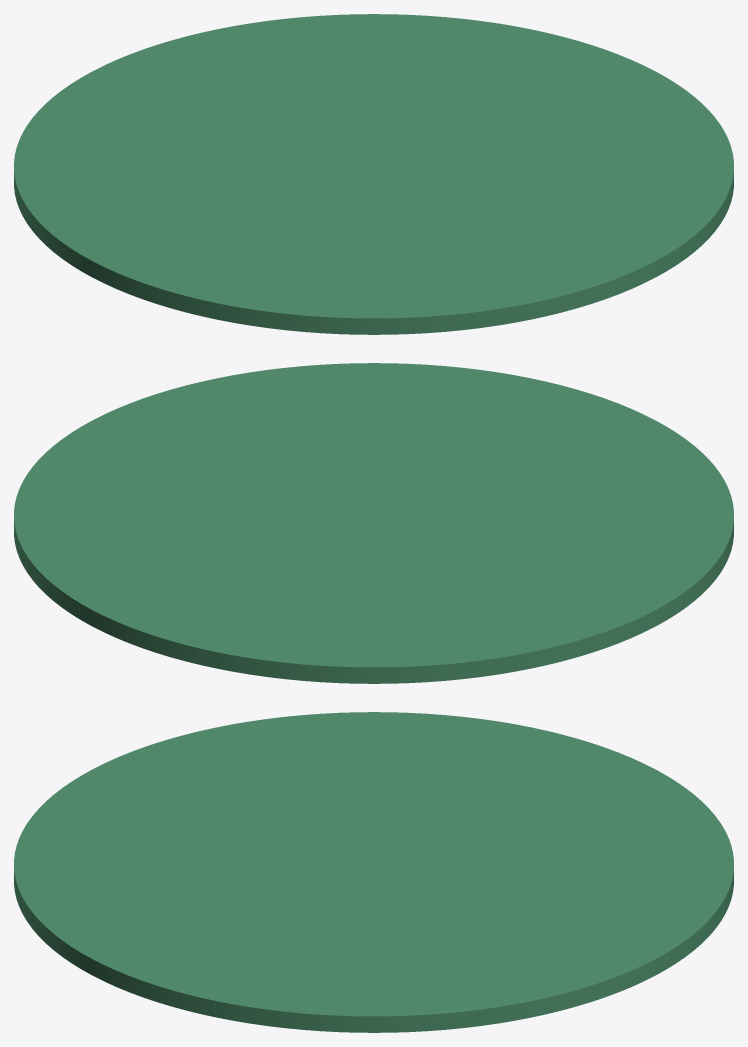
Rendered from esp2025_p23_panel_pcb.glb.
3 renders of one model, top to bottom at view 1: azimuth 30°, elevation 25°; view 2: azimuth 150°, elevation 25°; view 3: azimuth 270°, elevation 25°, orthographic.
Visible parts, largest first — view 1: panel circuit board; view 2: panel circuit board; view 3: panel circuit board.
Part boxes in pixels (<box>): panel circuit board: <box>14,14,733,334</box>; panel circuit board: <box>14,363,733,683</box>; panel circuit board: <box>14,712,733,1032</box>.
Bounding box in the file's own units: 63.6 × 1.6 × 63.58.
